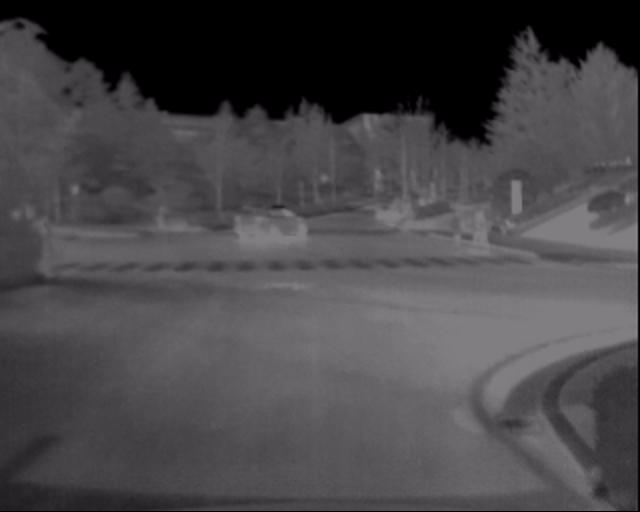person: (457, 199, 494, 256), (442, 207, 462, 249), (149, 203, 169, 241)
